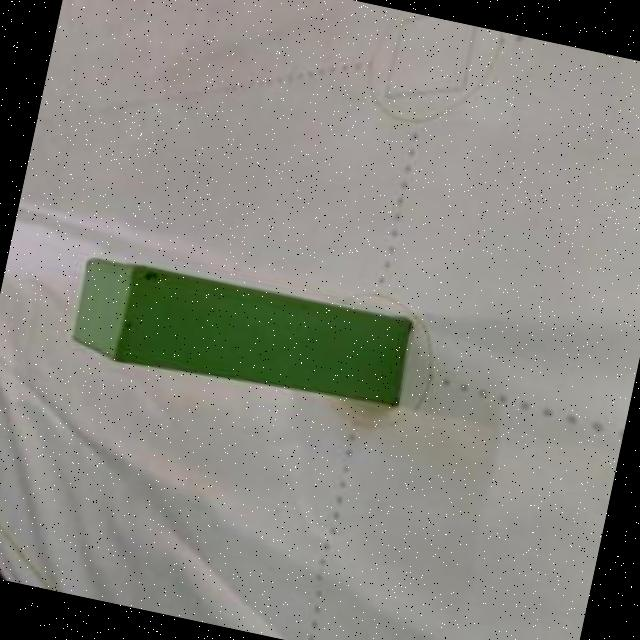greenbox: (63, 249, 414, 424)
